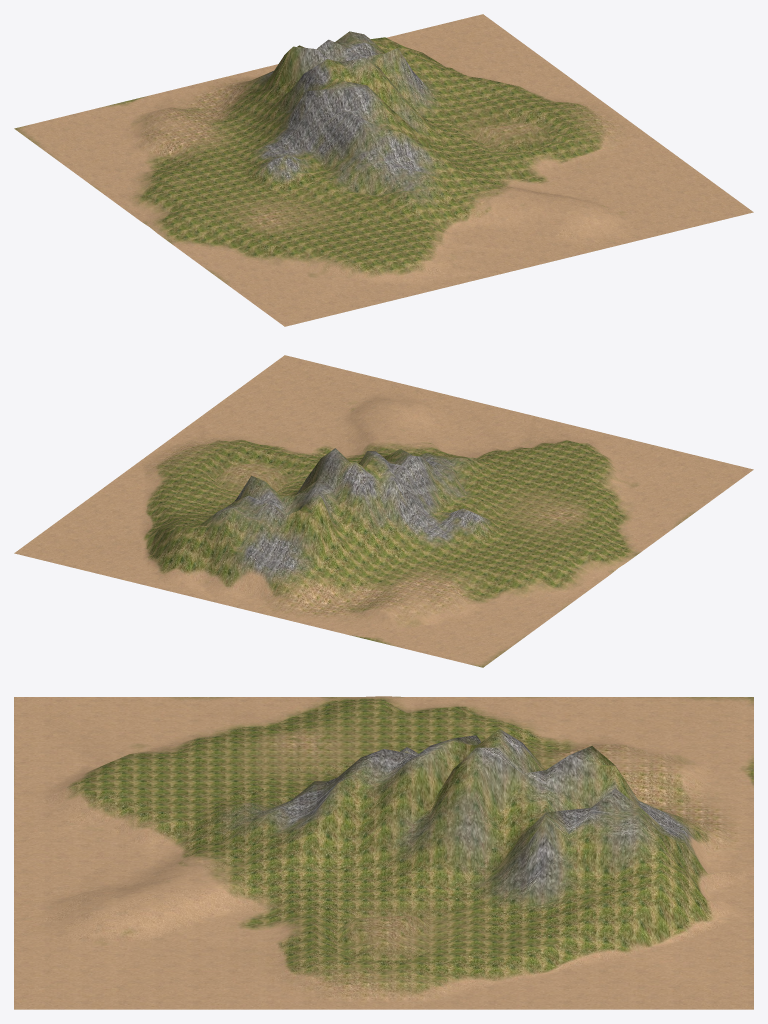
File: meshM.fbx
3 views of the same model, one above another, from view 1: azimuth 30°, elevation 25°; view 2: azimuth 150°, elevation 25°; view 3: azimuth 270°, elevation 25° (orthographic). The views are drawn at different scales.
Parts seen in each view (by area): view 1: Mesh; view 2: Mesh; view 3: Mesh.
Part boxes in pixels (x1,y1,x2,y2): Mesh: (14,14,753,326); Mesh: (14,355,753,667); Mesh: (14,696,753,1009).
Bounding box in the file's own units: 500 × 88.57 × 500.
1 material, 1 textured.
